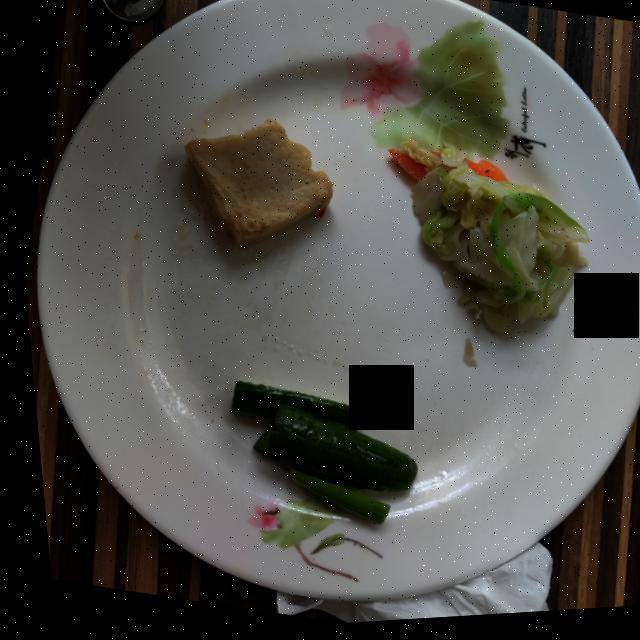cabbage: (387, 143, 583, 339)
coin: (102, 0, 162, 24)
creamy tofu -without sauce-: (181, 123, 329, 249)
cucumber: (223, 383, 408, 528)
